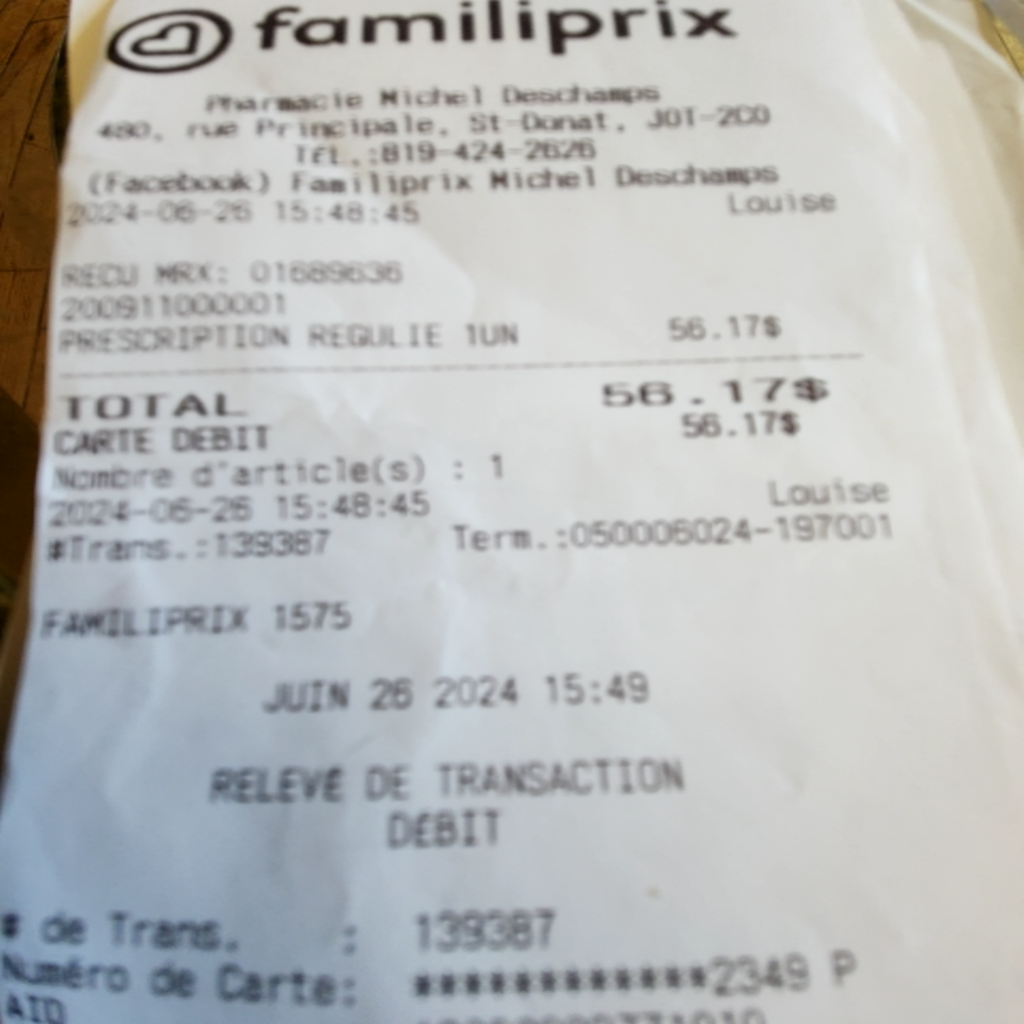recipt: (0, 0, 1022, 1024)
